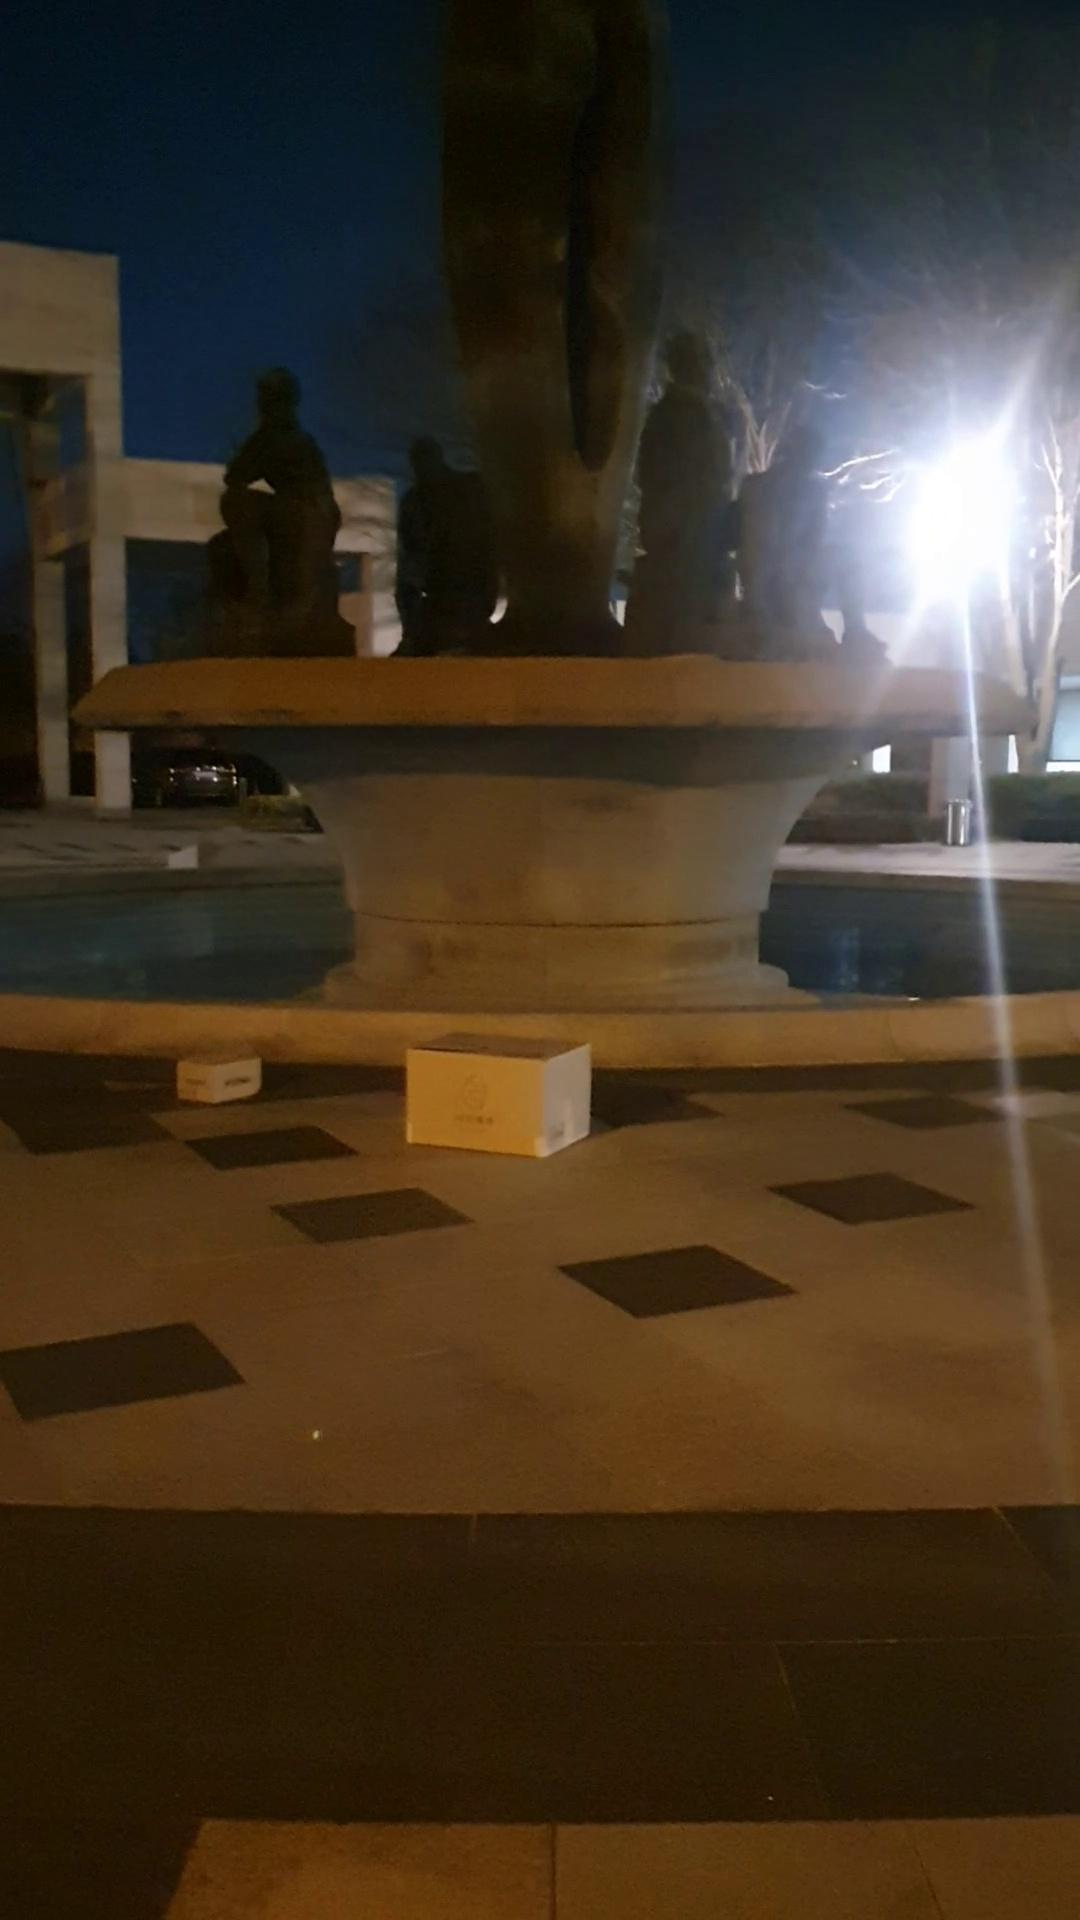Box: (398, 1018, 605, 1164), (173, 1035, 277, 1110)
